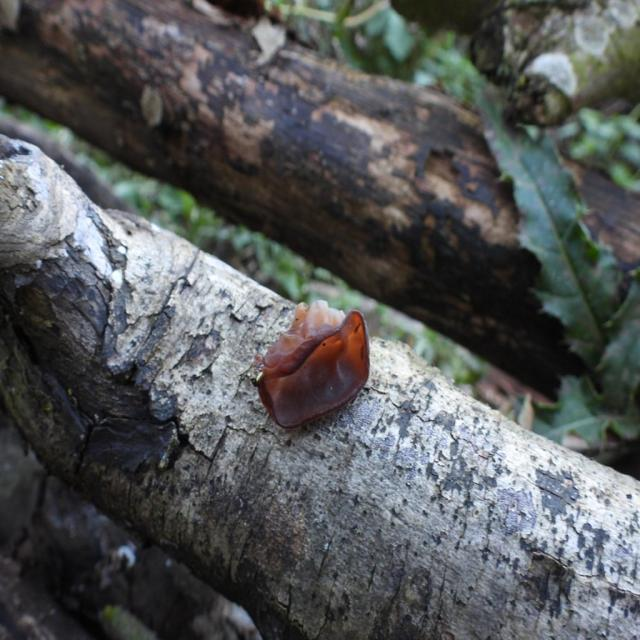Matang: (253, 285, 376, 443)
